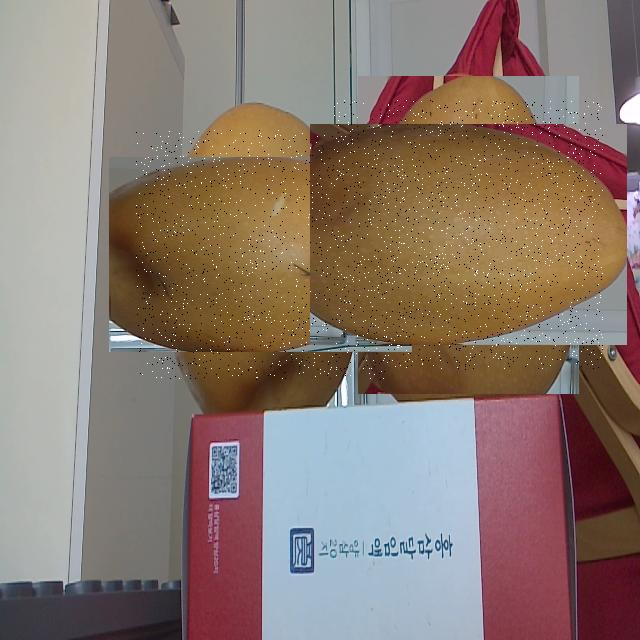pear: (334, 100, 603, 370), (136, 130, 385, 380)
